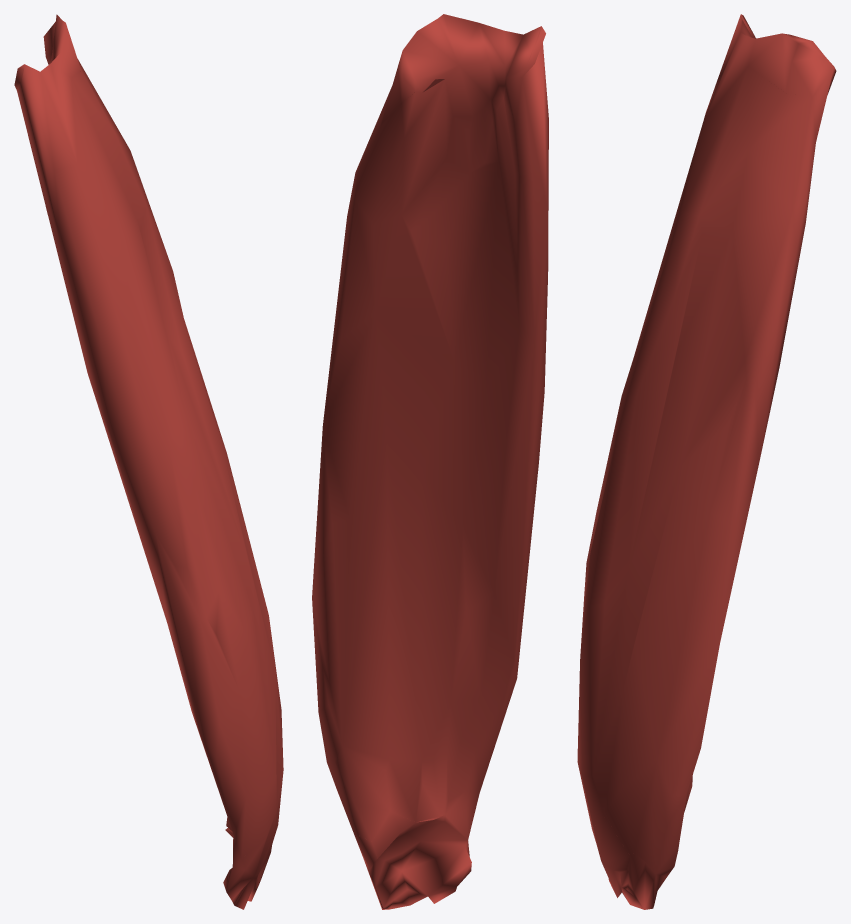
The model's file is musculos-abductor-digiti-minimi-of-hand-r.glb.
3 views of the same model, side by side, from view 1: azimuth 30°, elevation 25°; view 2: azimuth 150°, elevation 25°; view 3: azimuth 270°, elevation 25° (orthographic). The views are drawn at different scales.
Visible parts, largest first — view 1: Abductor digiti minimi of hand.r; view 2: Abductor digiti minimi of hand.r; view 3: Abductor digiti minimi of hand.r.
Part boxes in pixels (bbox=[...]): Abductor digiti minimi of hand.r: bbox=[14, 14, 283, 909]; Abductor digiti minimi of hand.r: bbox=[312, 14, 548, 909]; Abductor digiti minimi of hand.r: bbox=[577, 14, 836, 909].
Size of the model in its own units: 0.0182 by 0.0662 by 0.0189.
